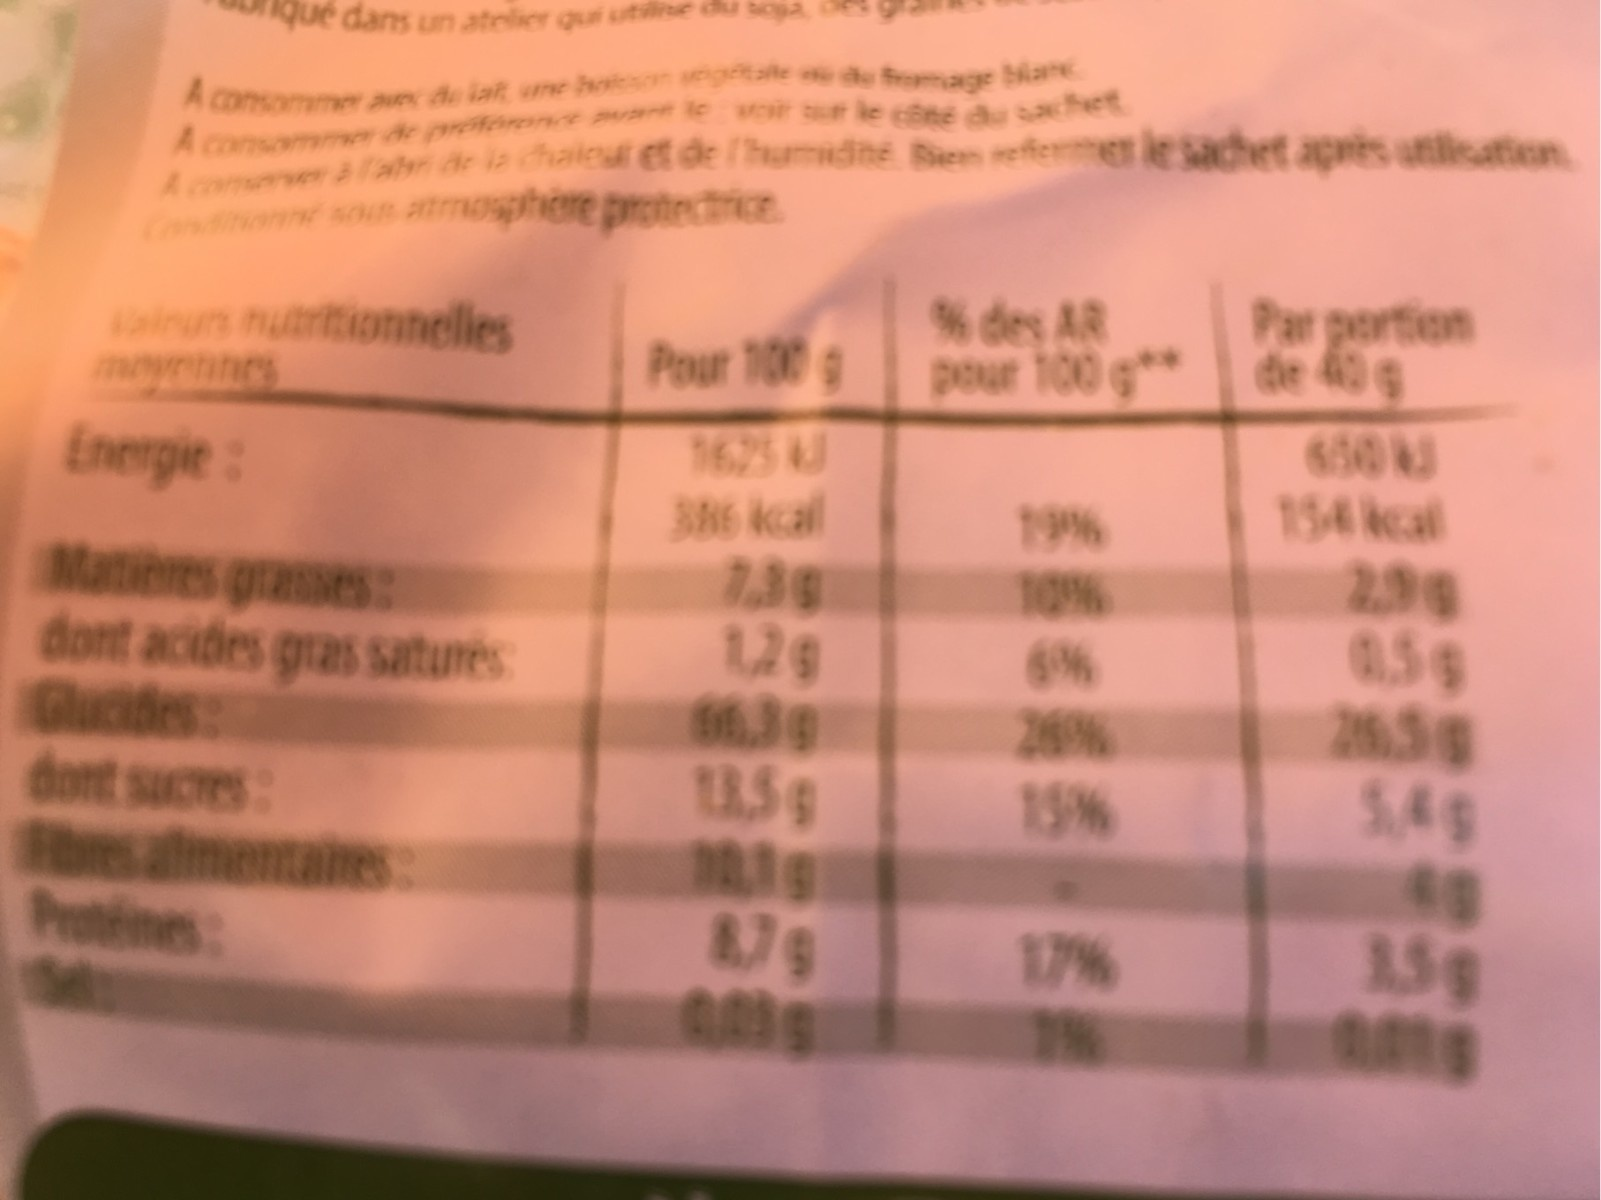column: (37, 296, 516, 1016), (927, 295, 1184, 1071), (1251, 294, 1485, 1083), (645, 332, 845, 1060)
table: (26, 276, 1504, 1098)
